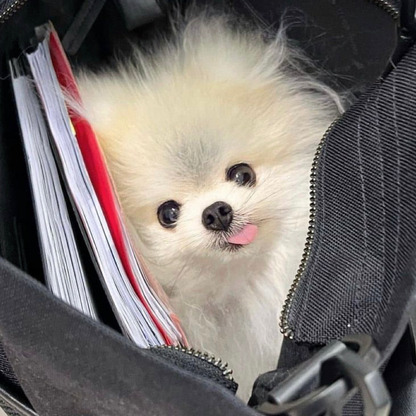Pomeranian: (62, 26, 347, 310)
